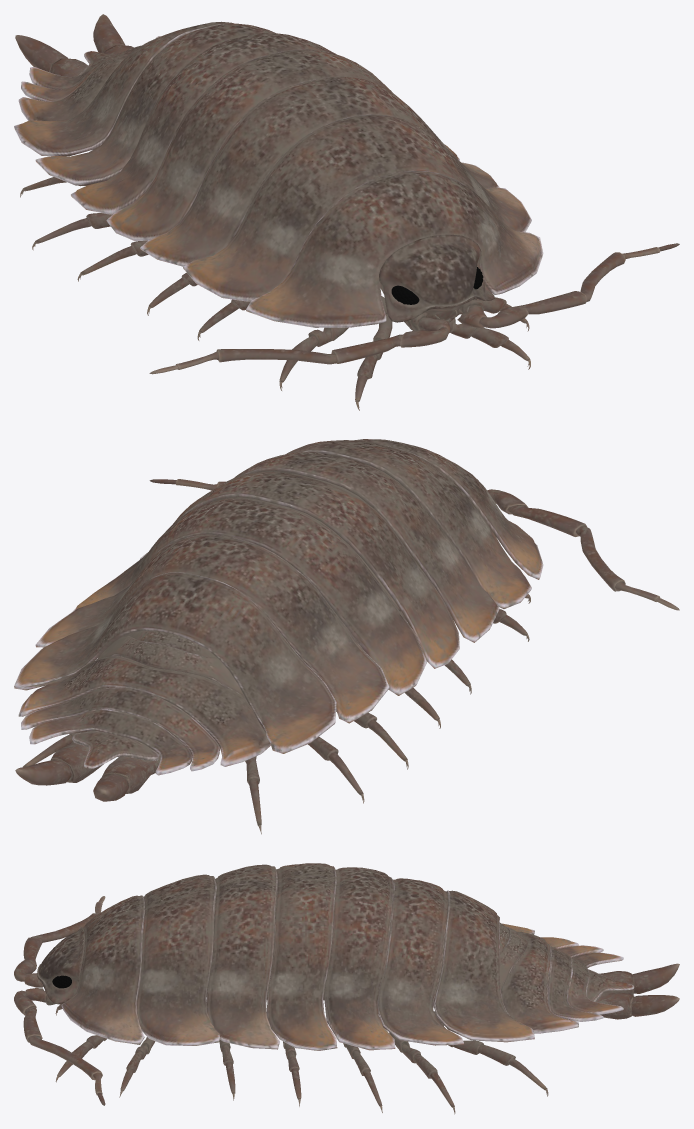
File: Senckenberg_woodlouse.gltf
3 views of the same model, one above another, from view 1: azimuth 30°, elevation 25°; view 2: azimuth 150°, elevation 25°; view 3: azimuth 270°, elevation 25° (orthographic). The views are drawn at different scales.
Parts seen in each view (by area): view 1: Trachelipus_ratzeburgii; view 2: Trachelipus_ratzeburgii; view 3: Trachelipus_ratzeburgii.
Part boxes in pixels (x1,y1,x2,y2): Trachelipus_ratzeburgii: (14, 14, 679, 410); Trachelipus_ratzeburgii: (14, 439, 679, 834); Trachelipus_ratzeburgii: (14, 863, 679, 1114).
Size of the model in its own units: 0.0454 by 0.0175 by 0.0609.
1 material, 1 textured.
